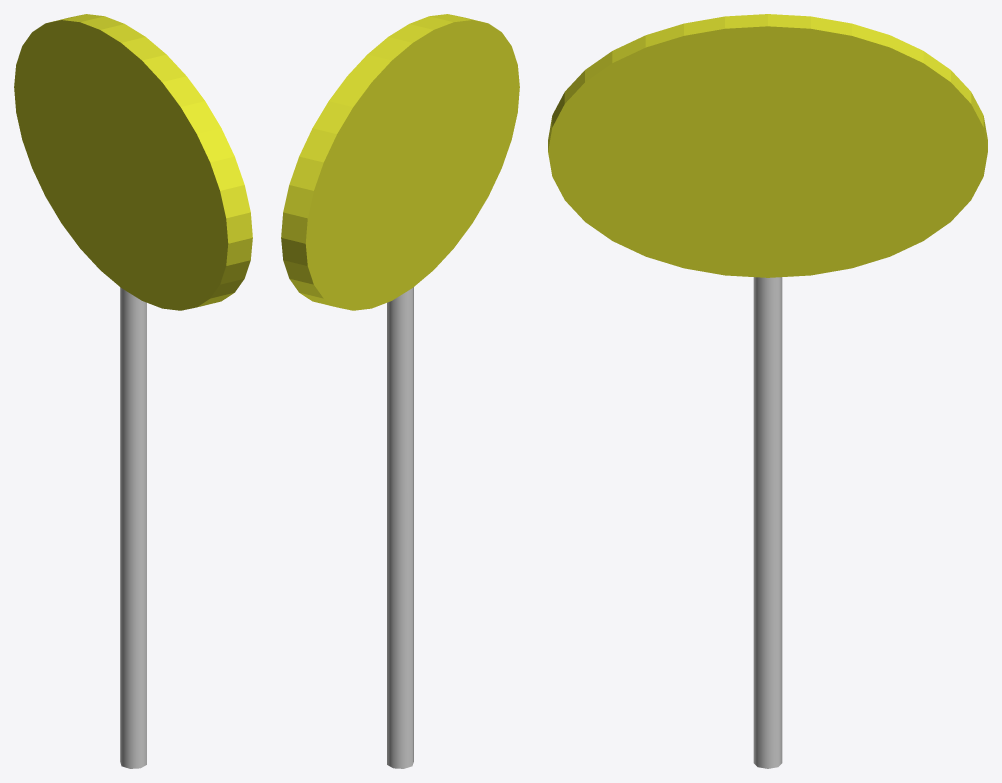
The model's file is letrero 3.fbx.
3 renders of one model, left to right at view 1: azimuth 30°, elevation 25°; view 2: azimuth 150°, elevation 25°; view 3: azimuth 270°, elevation 25°, orthographic. The views are drawn at different scales.
Visible parts, largest first — view 1: Cylinder, Cube.005; view 2: Cylinder, Cube.005; view 3: Cylinder, Cube.005.
Boxes of the visible parts, left/top/right/bottom form: Cylinder: left=14, top=14, right=252, bottom=310; Cube.005: left=120, top=287, right=146, bottom=768; Cylinder: left=281, top=14, right=519, bottom=310; Cube.005: left=387, top=287, right=413, bottom=768; Cylinder: left=548, top=14, right=987, bottom=277; Cube.005: left=753, top=277, right=782, bottom=768.
Bounding box in the file's own units: 3.48 × 97.48 × 52.31.
